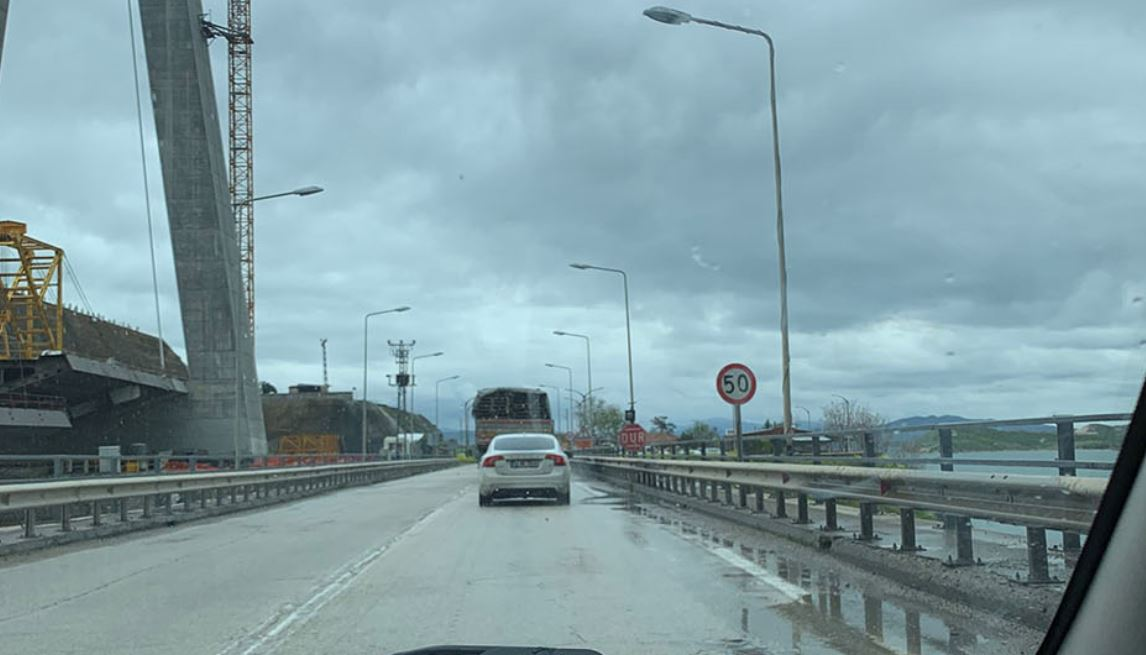50 Km Hiz Siniri: (714, 364, 759, 405)
